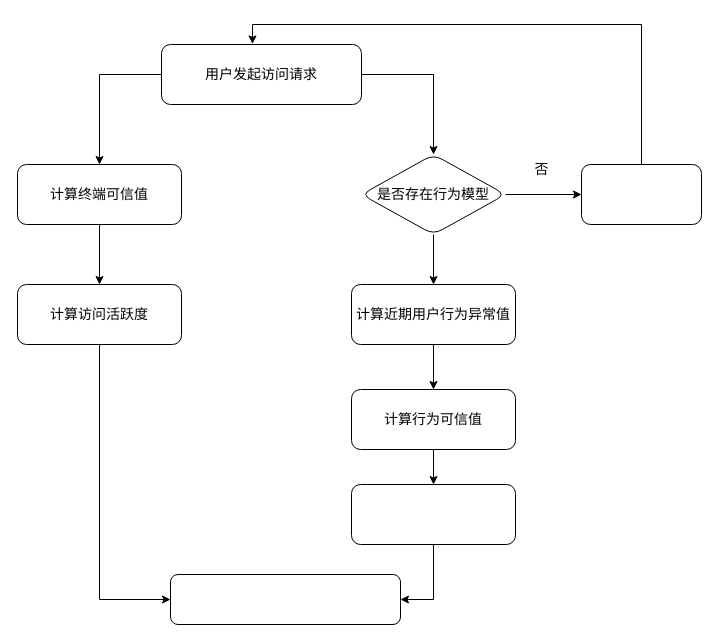
The diagram is 719 pixels wide and 642 high, and some of its shapes have lost their labels. The centre of each missing label's shape, as x and y in pixels:
用户综合信任计算: (x=285, y=599)
等待样本收集，建立10天内用户行为模型: (x=641, y=194)
计算交互活跃度: (x=433, y=514)
